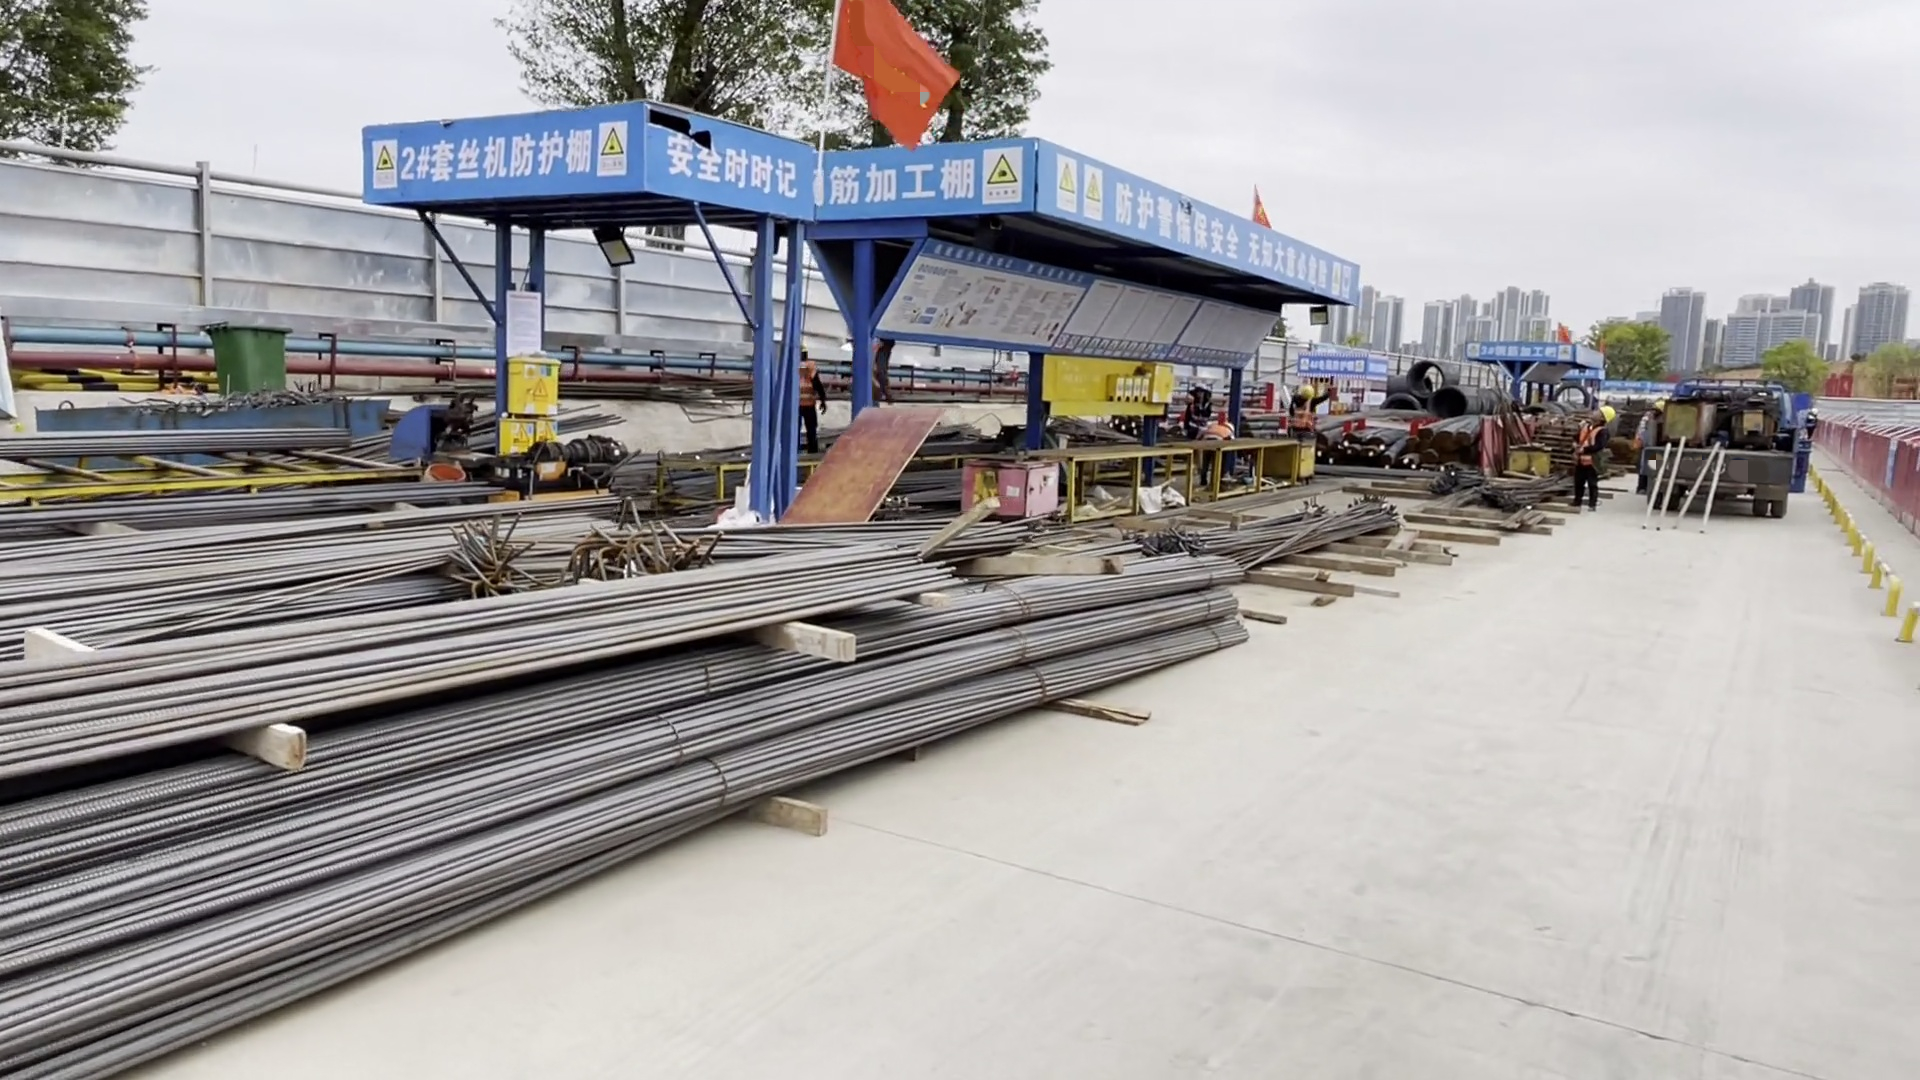board: (771, 406, 958, 517)
ebox: (499, 359, 562, 453), (1107, 362, 1172, 404), (1741, 409, 1765, 435)
fence: (1, 209, 706, 349), (1851, 433, 1920, 516)
helmet: (1599, 404, 1615, 422), (1300, 384, 1316, 401), (1656, 398, 1669, 412), (1193, 380, 1207, 388), (1810, 407, 1820, 416), (801, 341, 810, 348)
hopper: (37, 389, 401, 451)
person: (778, 332, 828, 463), (1574, 400, 1617, 511), (1634, 392, 1667, 494), (1288, 383, 1331, 459), (1206, 418, 1238, 484), (1186, 380, 1210, 424), (1802, 406, 1820, 439)
rebar: (7, 551, 1217, 1080), (1146, 495, 1400, 571)
slogan: (1065, 180, 1366, 293), (379, 121, 635, 192), (815, 147, 1057, 213), (662, 130, 801, 203), (1469, 340, 1568, 359), (1306, 358, 1371, 376)
vest: (1575, 425, 1601, 471), (796, 359, 821, 406), (1294, 402, 1313, 433), (1188, 401, 1213, 419), (1207, 424, 1229, 445), (1805, 416, 1818, 428)
